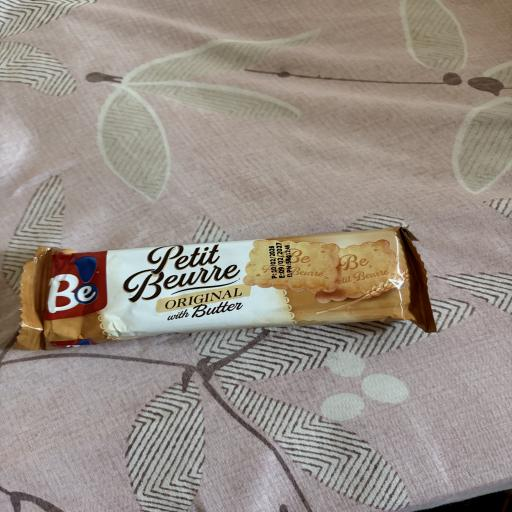petit_beurre: (7, 223, 469, 368)
